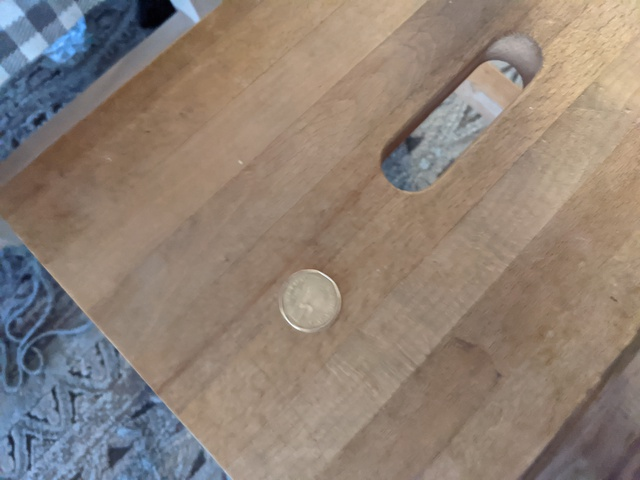loonie: (267, 262, 346, 327)
